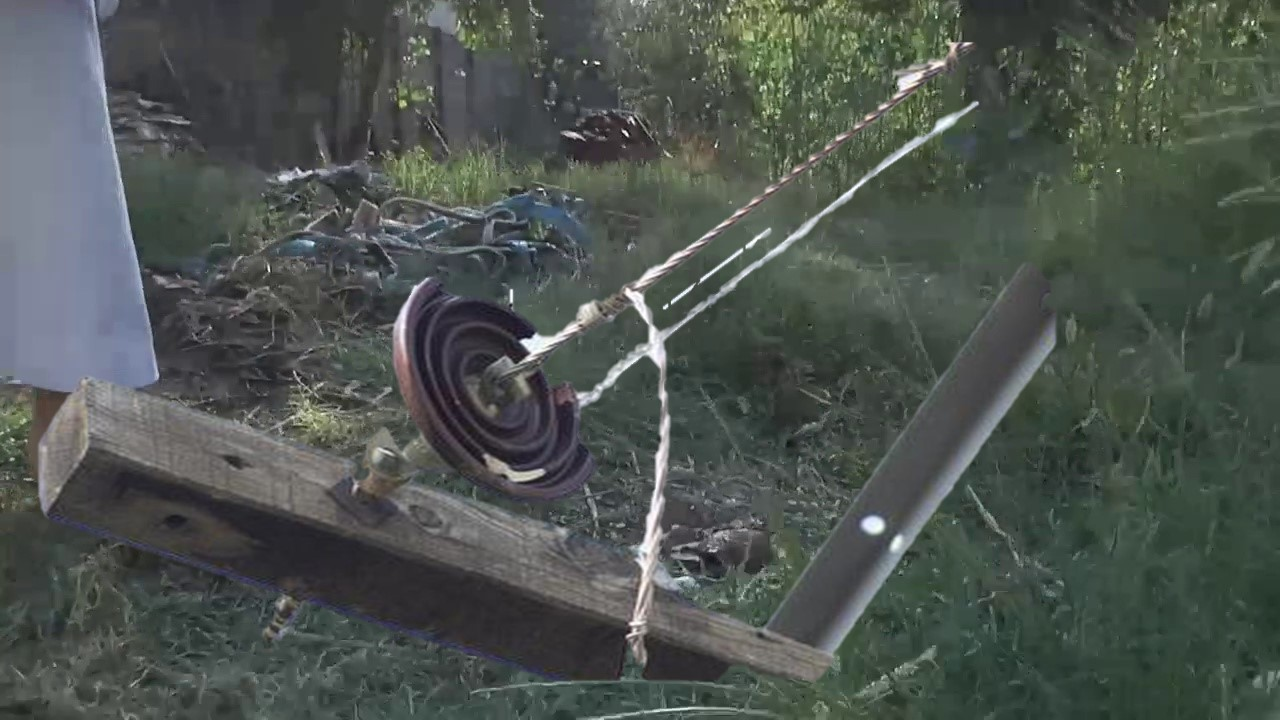defect_disc: (382, 263, 603, 509)
